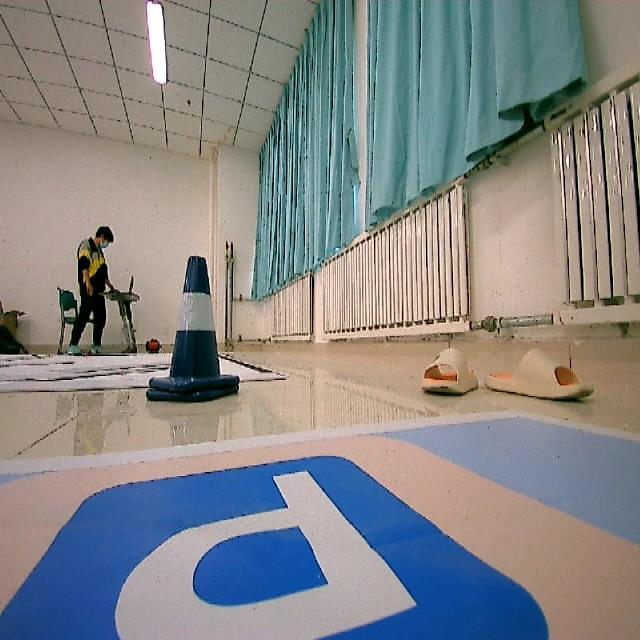obstacle: (148, 251, 243, 414)
